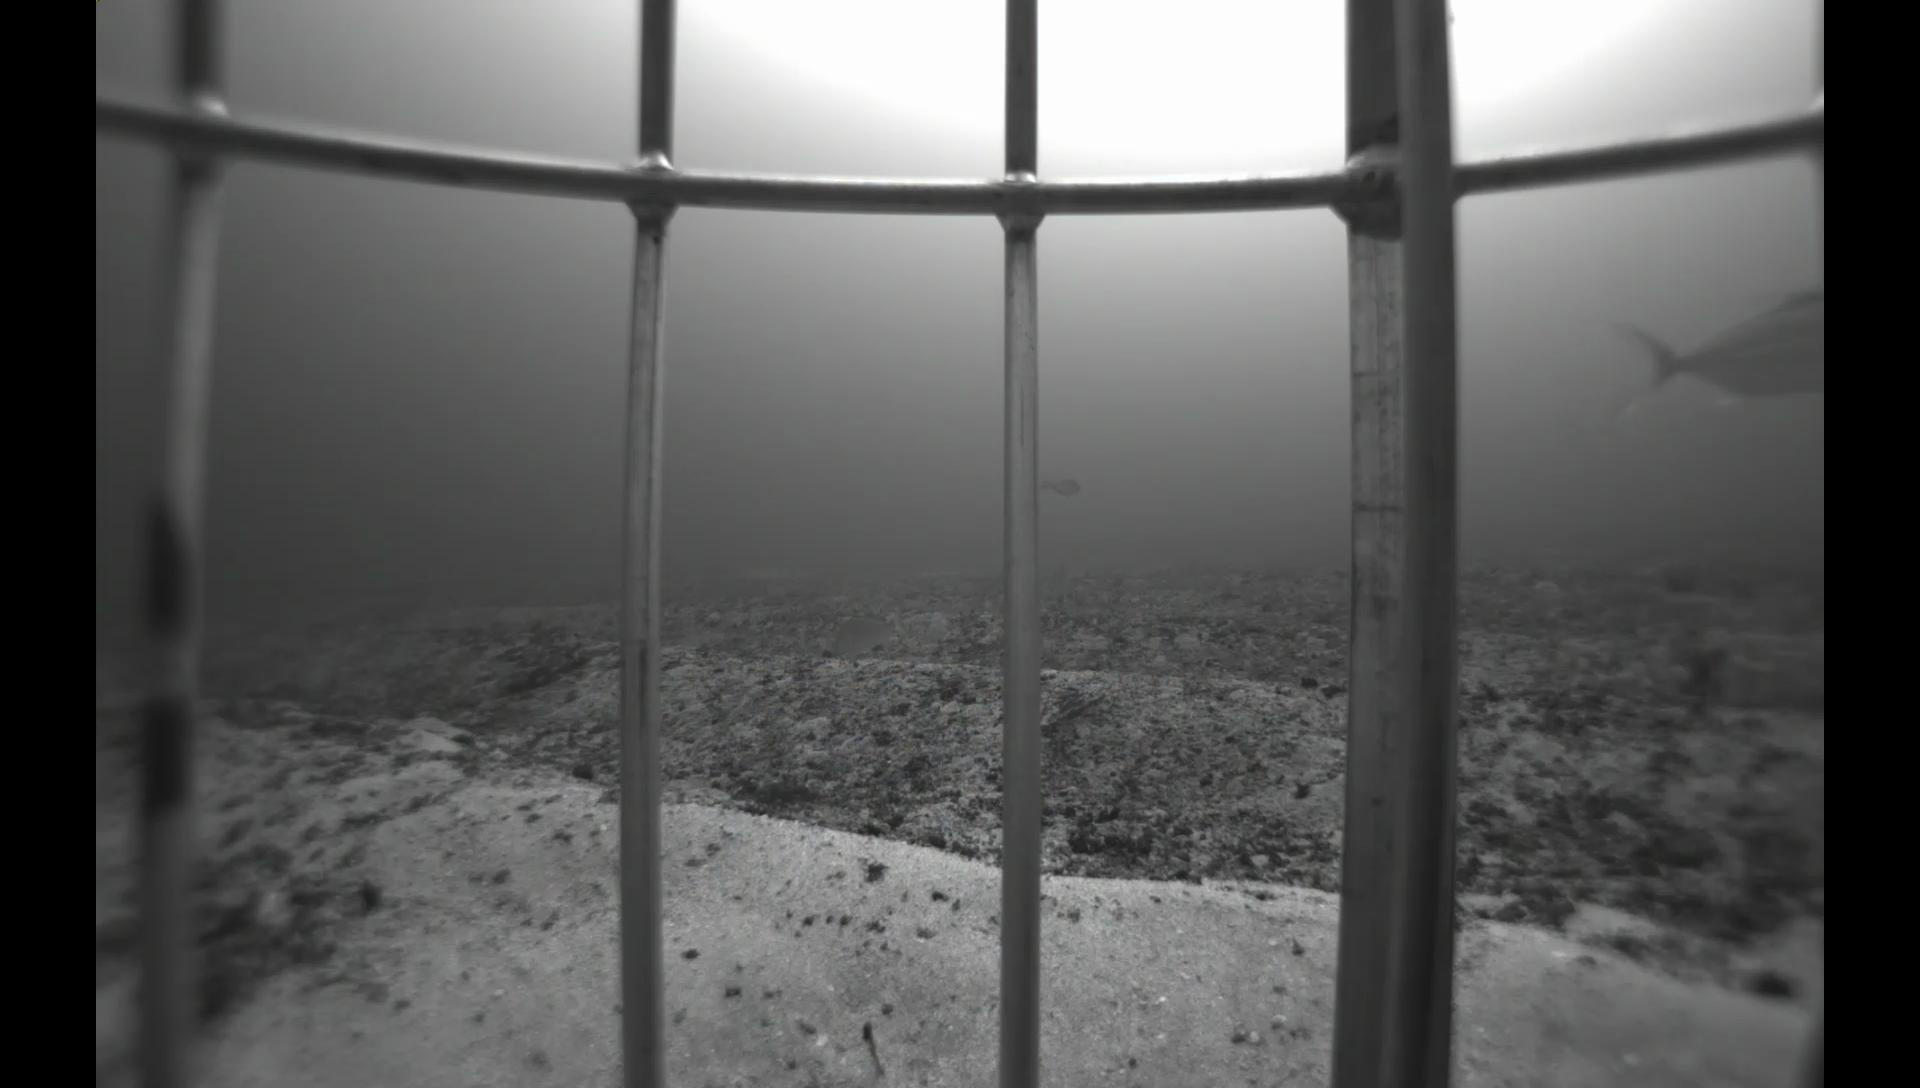CALAMUS-170210600: (829, 605, 909, 658), (1042, 562, 1075, 603)
EPINEPHELUSMORIO-170021211: (1776, 1010, 1824, 1088)
RHOMBOPLITESAURORUBENS-170152001: (1035, 473, 1085, 502)
SERIOLARIVOLIANA-170113105: (1578, 270, 1821, 447)
